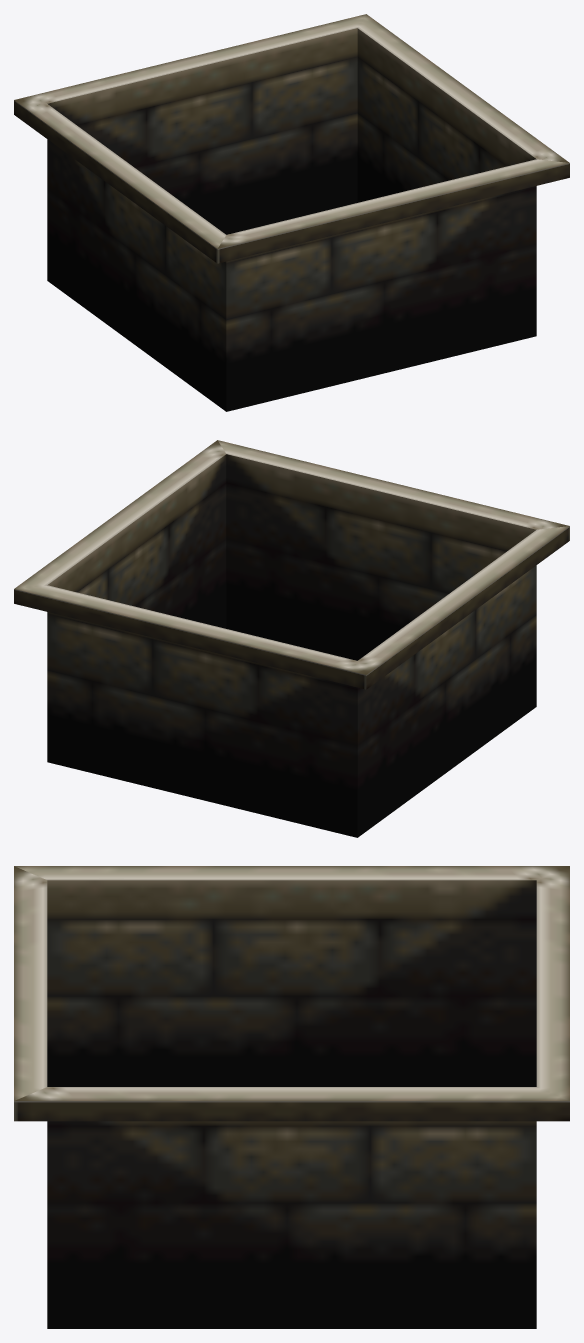
File: Poly_Hole_01_Down.obj
The picture shows the model from 3 angles, top to bottom: view 1: azimuth 30°, elevation 25°; view 2: azimuth 150°, elevation 25°; view 3: azimuth 270°, elevation 25°; orthographic projection. The views are drawn at different scales.
Visible parts, largest first — view 1: Cube.001; view 2: Cube.001; view 3: Cube.001.
Boxes of the visible parts, box(x1,y1,x2,y2) form: Cube.001: box(14, 14, 569, 411); Cube.001: box(14, 440, 569, 837); Cube.001: box(14, 866, 569, 1328).
Size of the model in its own units: 1 by 0.48 by 1.
1 material, 1 textured.
